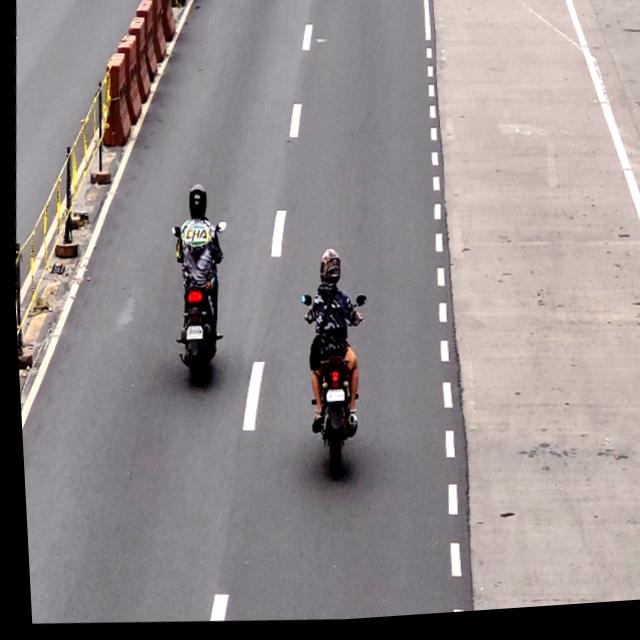License-Plate: (180, 325, 200, 344), (320, 392, 341, 410)
Motorcycle: (292, 245, 364, 481), (166, 185, 222, 383)
